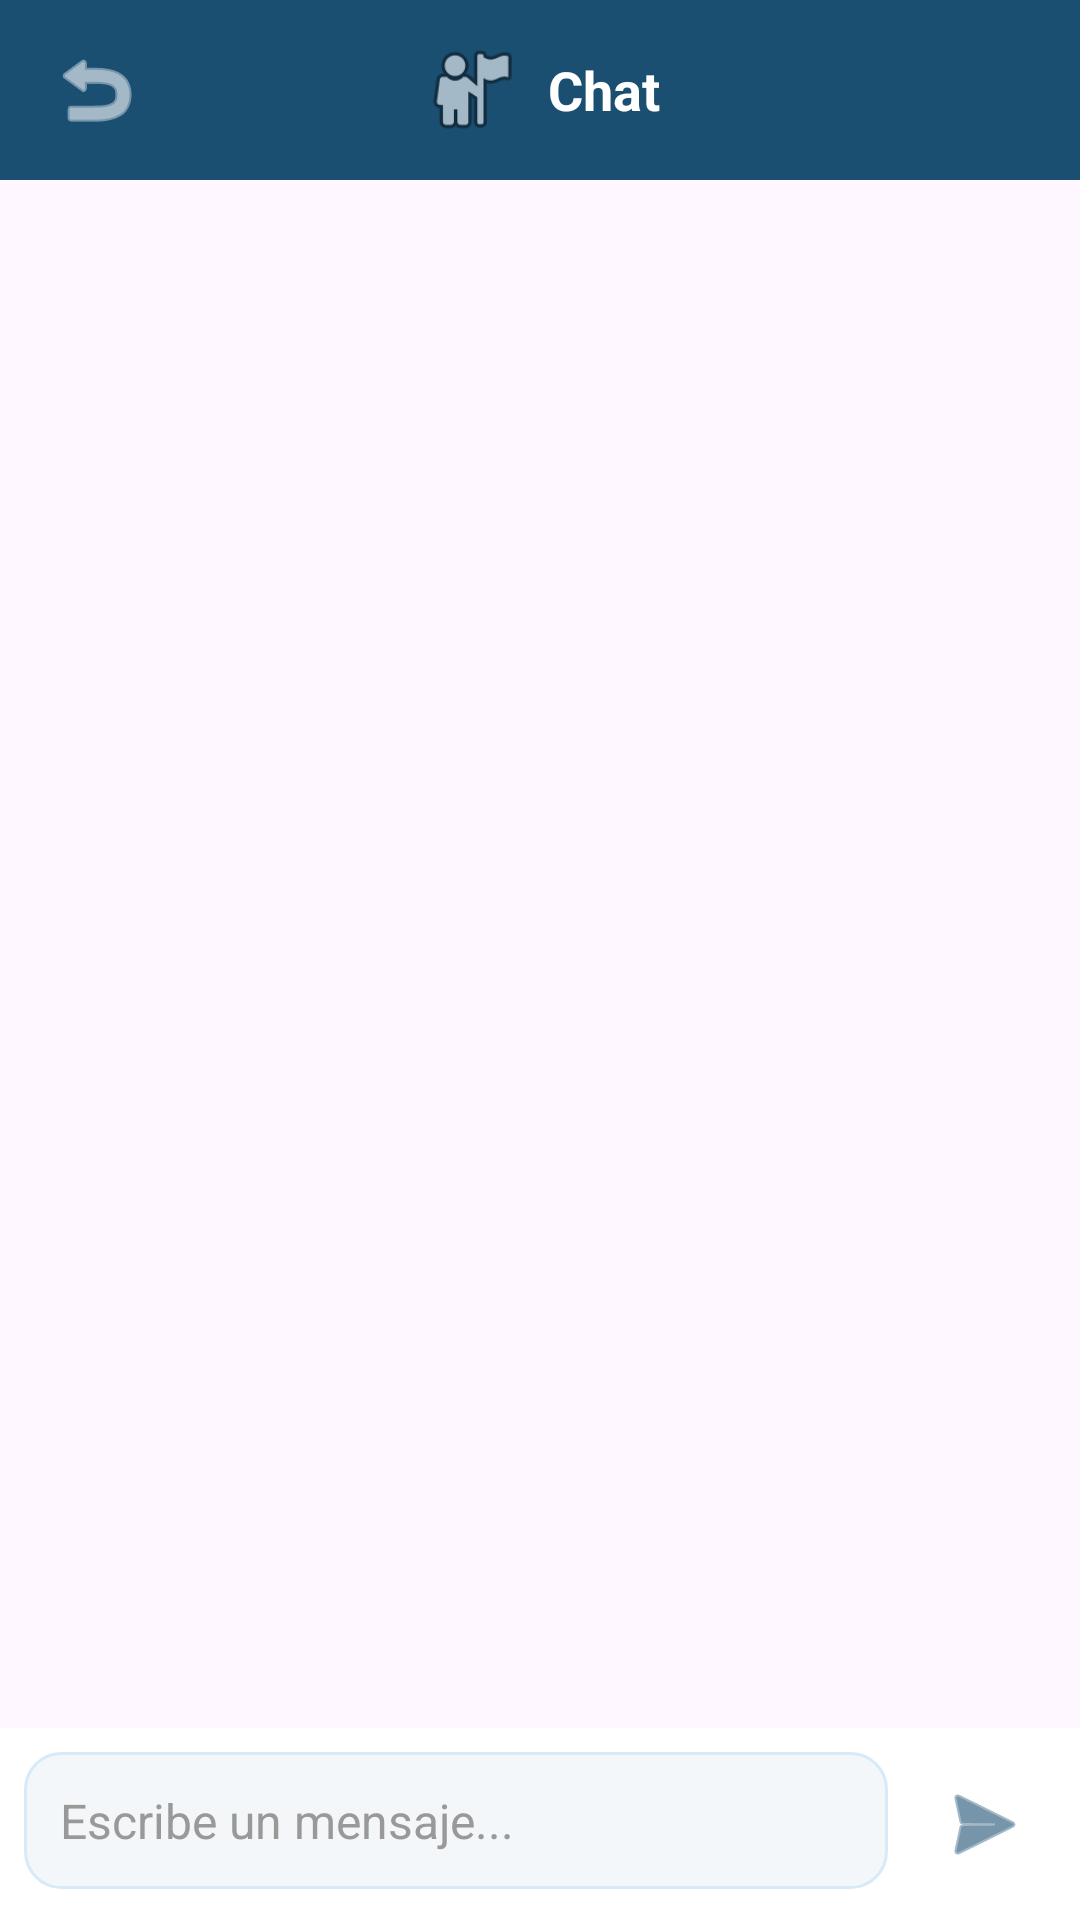

Icon click points for this 1080×1920 phone screenshot, format (x,y):
Enviar: (985,1824)
Regresar: (97,90)
